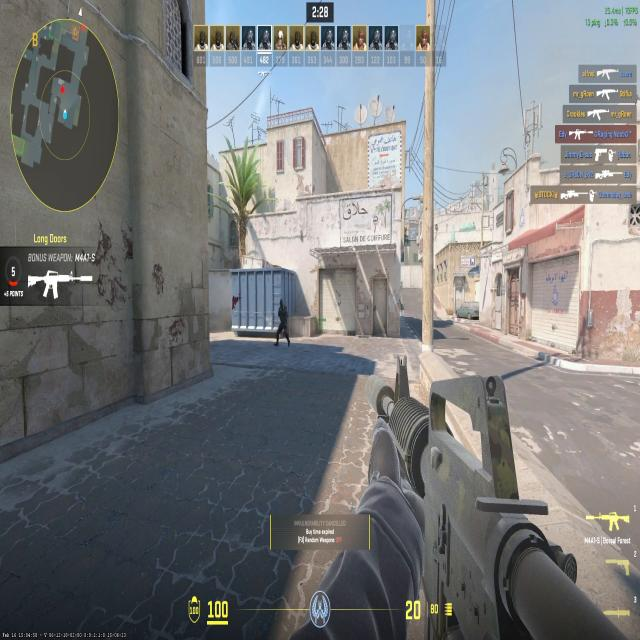player: (272, 298, 294, 351)
